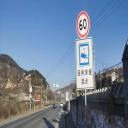speed_limit_60: (76, 10, 90, 39)
